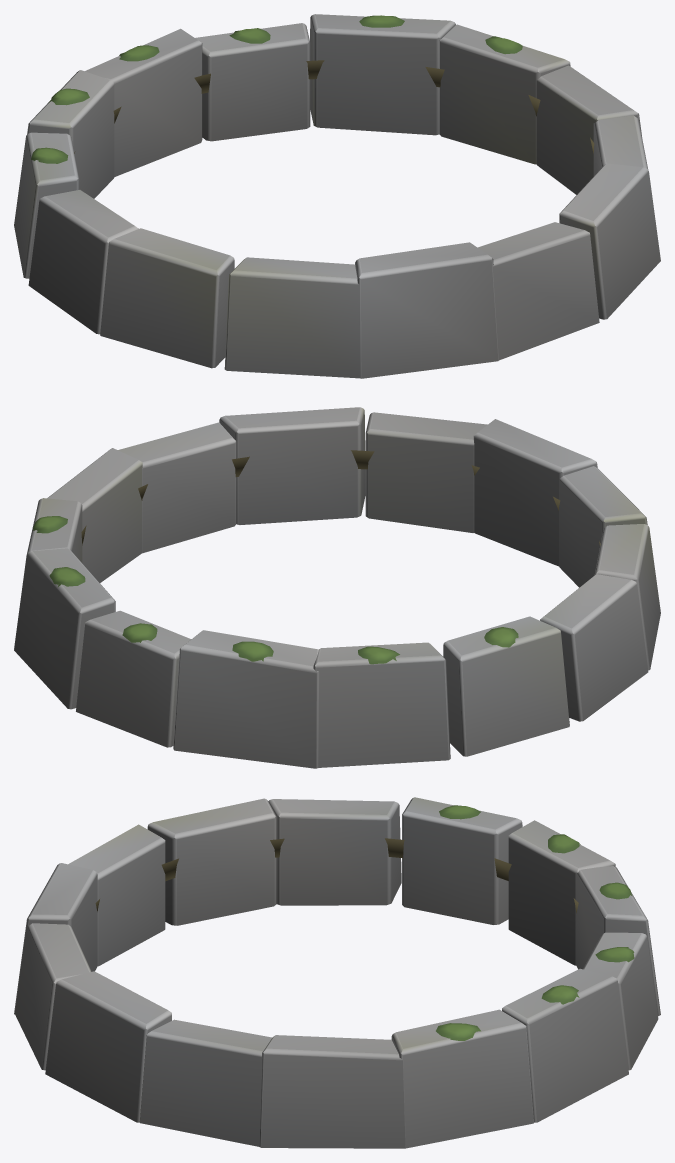
Rendered from mech_basin.glb.
The picture shows the model from 3 angles, top to bottom: view 1: azimuth 30°, elevation 25°; view 2: azimuth 150°, elevation 25°; view 3: azimuth 270°, elevation 25°; orthographic projection.
Visible parts, largest first — view 1: mech_basin_LOD0; view 2: mech_basin_LOD0; view 3: mech_basin_LOD0.
Part boxes in pixels (box(x1,y1,x2,y2)): mech_basin_LOD0: box(14, 14, 660, 378); mech_basin_LOD0: box(14, 407, 660, 768); mech_basin_LOD0: box(14, 797, 660, 1148).
Size of what is drawn, in the model's own units: 5.98 by 1.04 by 6.11.
